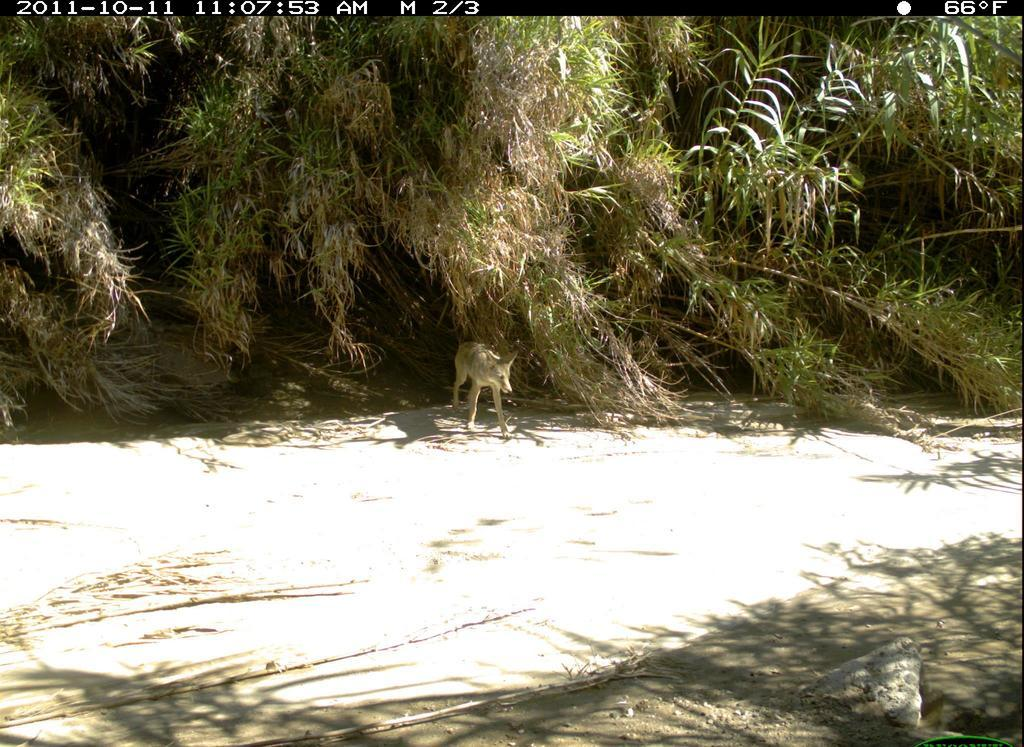coyote: (445, 338, 524, 440)
